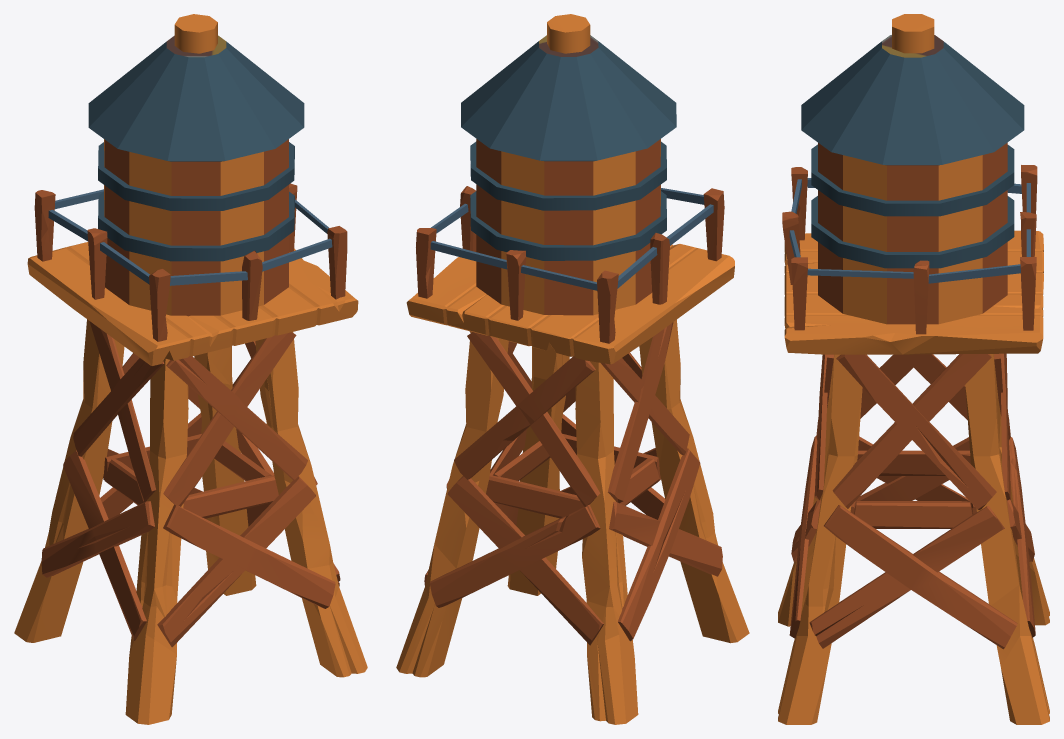
Rendered from small001.fbx.
3 views of the same model, side by side, from view 1: azimuth 30°, elevation 25°; view 2: azimuth 150°, elevation 25°; view 3: azimuth 270°, elevation 25° (orthographic). The views are drawn at different scales.
Visible parts, largest first — view 1: polySurface682; view 2: polySurface682; view 3: polySurface682.
Part boxes in pixels (x1,y1,x2,y2): polySurface682: (14,14,367,724); polySurface682: (396,14,749,724); polySurface682: (778,14,1049,724).
Size of the model in its own units: 495 by 1287 by 491.
